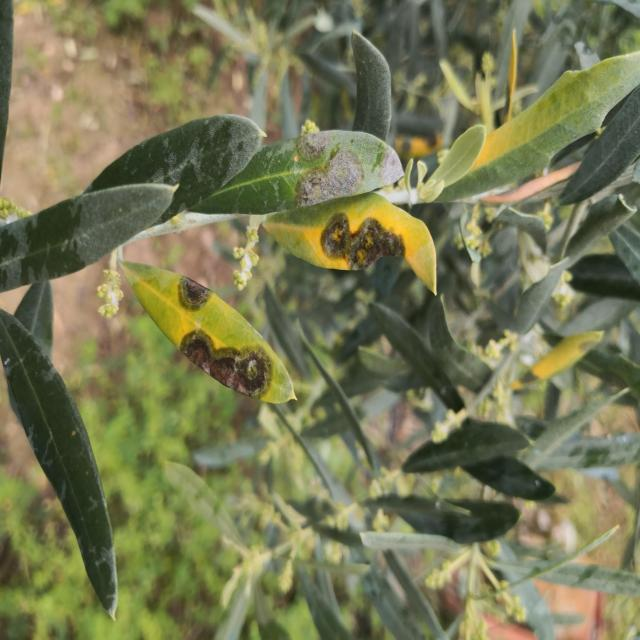Peacock Eye: (121, 261, 296, 403), (265, 192, 436, 293)
